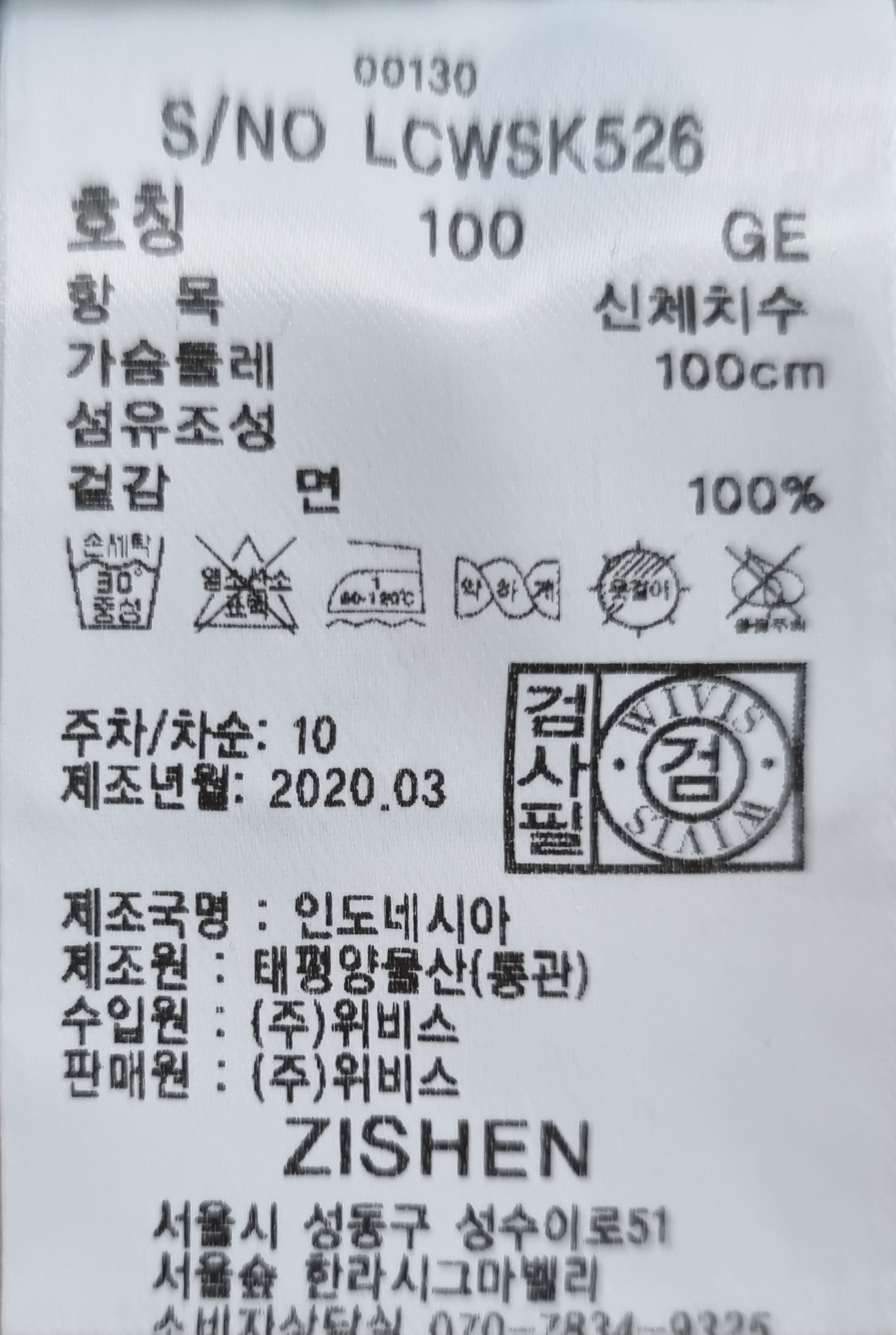KR_gentle_wring: (440, 540, 573, 639)
KR_hand_wash_30_neutral: (52, 524, 173, 641)
KR_hang_dry_in_shade: (589, 533, 694, 635)
KR_iron_low_temp_with_cloth: (320, 525, 434, 635)
KR_no_bleach: (189, 522, 302, 641)
